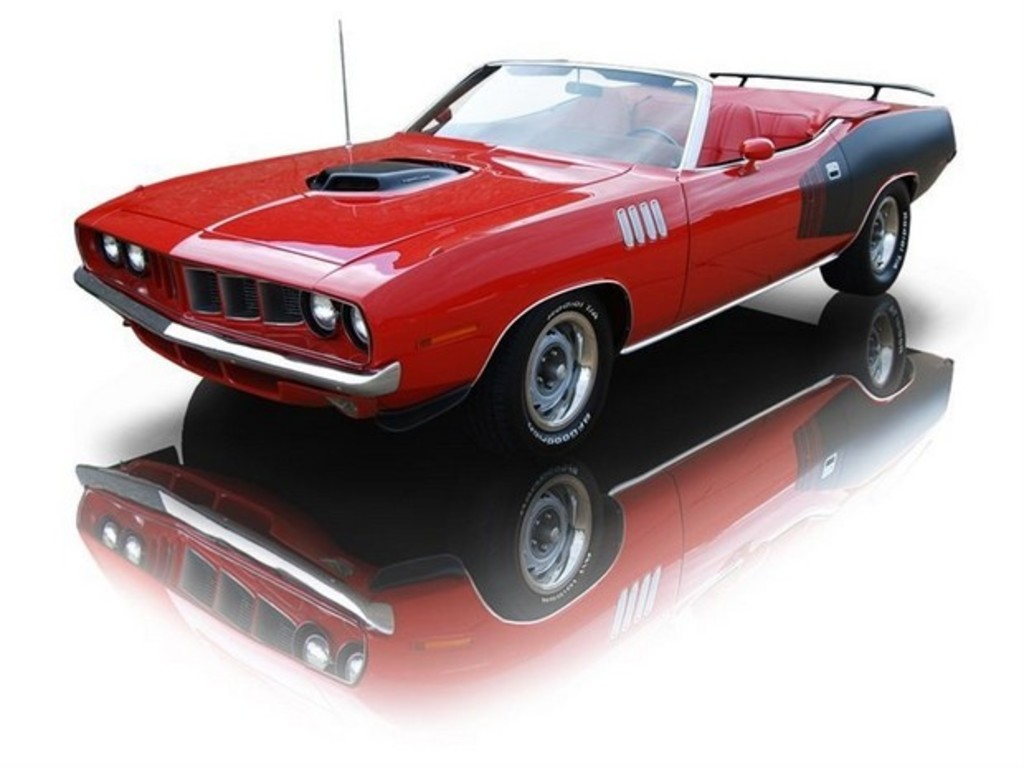Car: (52, 54, 948, 462)
